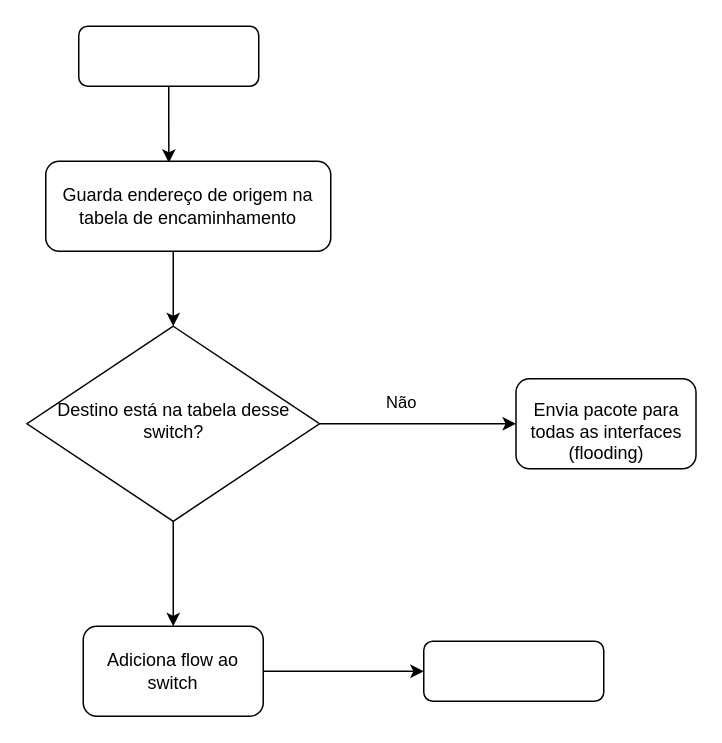
Some shapes in this 722 by 743 pixel diagram are drawn without their labels. The shapes that lost their labels are listed below. From the top down, each one's centre as x and y in pixels, then its label:
(168,55): Pacote recebido
(513,670): Envia para a porta correspondente
